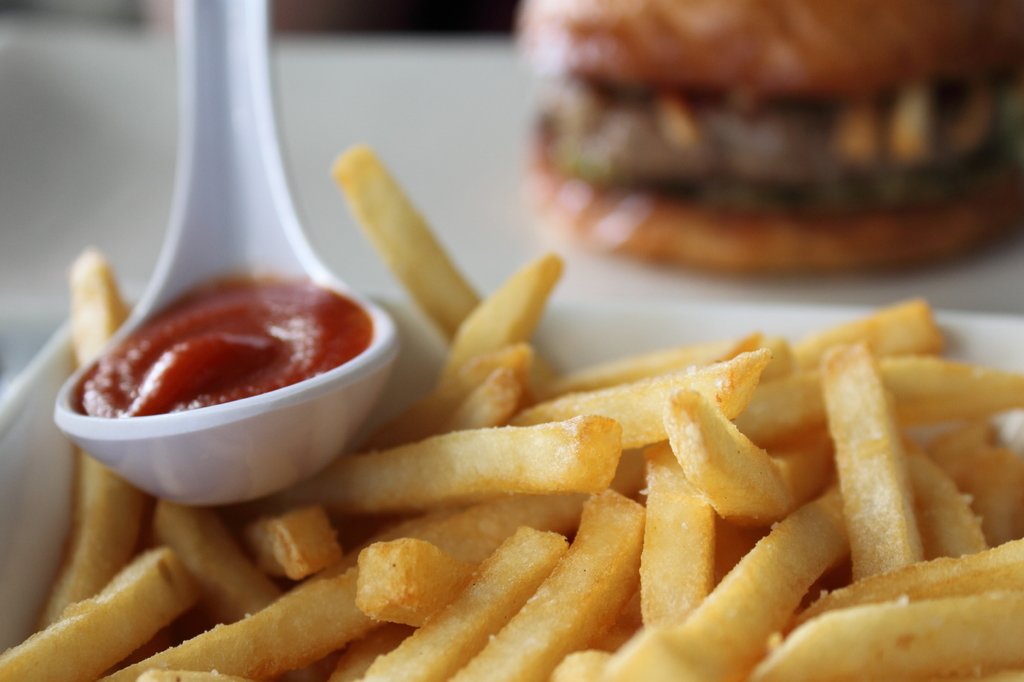French fries: (0, 126, 1023, 681)
